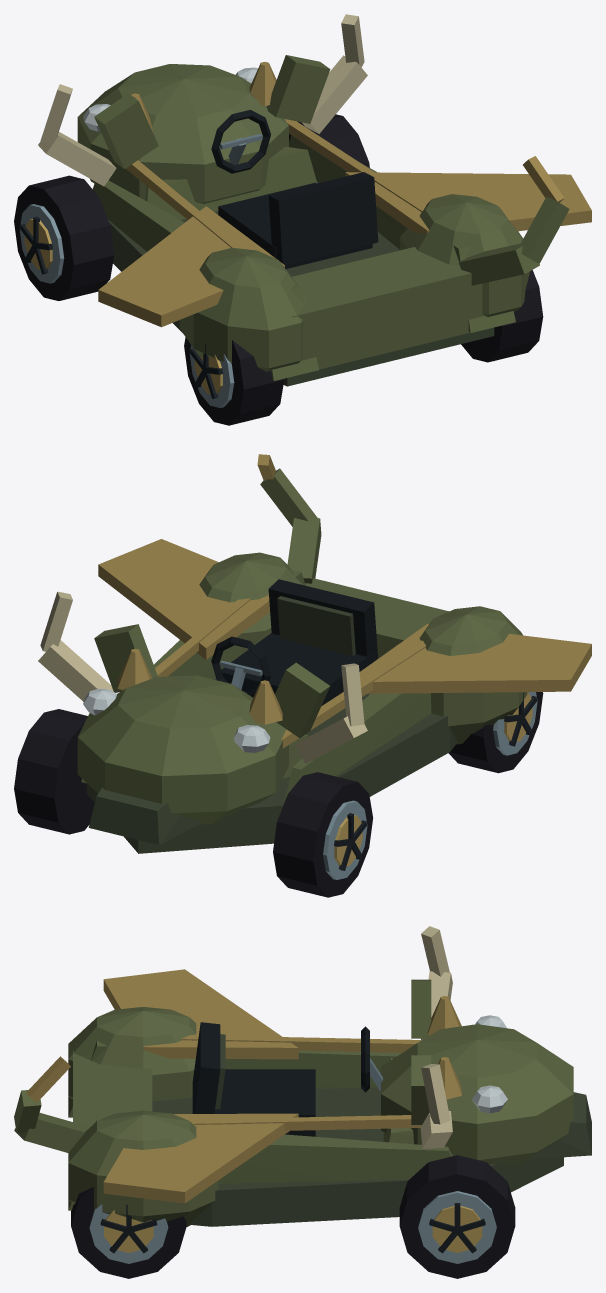
The model's file is kart.glb.
The picture shows the model from 3 angles, top to bottom: view 1: azimuth 30°, elevation 25°; view 2: azimuth 150°, elevation 25°; view 3: azimuth 270°, elevation 25°; orthographic projection. The views are drawn at different scales.
Visible parts, largest first — view 1: identity-beast-beast-sculpted-prow-and-haunches, identity-beast-motif-wings, identity-beast-driver-cockpit, wheel-front-left, identity-beast-motif-horns, wheel-rear-left, identity-beast-motif-tail, wheel-rear-right, wheel-front-right; view 2: identity-beast-beast-sculpted-prow-and-haunches, identity-beast-motif-wings, identity-beast-driver-cockpit, wheel-front-left, wheel-front-right, identity-beast-motif-horns, wheel-rear-left, identity-beast-motif-tail; view 3: identity-beast-beast-sculpted-prow-and-haunches, identity-beast-motif-wings, wheel-front-right, identity-beast-driver-cockpit, wheel-rear-right, identity-beast-motif-horns, identity-beast-motif-tail.
Part boxes in pixels (box(x1,y1,x2,y2)): identity-beast-beast-sculpted-prow-and-haunches: box(77, 55, 530, 386); identity-beast-motif-wings: box(98, 172, 591, 327); identity-beast-driver-cockpit: box(211, 109, 378, 268); wheel-front-left: box(14, 175, 114, 300); identity-beast-motif-horns: box(38, 14, 367, 186); wheel-rear-left: box(184, 337, 284, 425); identity-beast-motif-tail: box(458, 156, 569, 285); wheel-rear-right: box(461, 270, 543, 362); wheel-front-right: box(289, 114, 369, 167); identity-beast-beast-sculpted-prow-and-haunches: box(77, 552, 528, 853); identity-beast-motif-wings: box(98, 539, 591, 693); identity-beast-driver-cockpit: box(211, 579, 378, 705); wheel-front-left: box(273, 772, 372, 897); wheel-front-right: box(14, 709, 94, 834); identity-beast-motif-horns: box(38, 591, 367, 763); wheel-rear-left: box(448, 692, 543, 773); identity-beast-motif-tail: box(257, 454, 321, 583); identity-beast-beast-sculpted-prow-and-haunches: box(68, 979, 591, 1226); identity-beast-motif-wings: box(103, 969, 298, 1203); wheel-front-right: box(399, 1155, 515, 1278); identity-beast-driver-cockpit: box(192, 1022, 382, 1136); wheel-rear-right: box(71, 1187, 186, 1278); identity-beast-motif-horns: box(420, 926, 452, 1148); identity-beast-motif-tail: box(14, 1056, 88, 1152).
Size of the model in its own units: 2.92 by 1.3 by 3.2.
